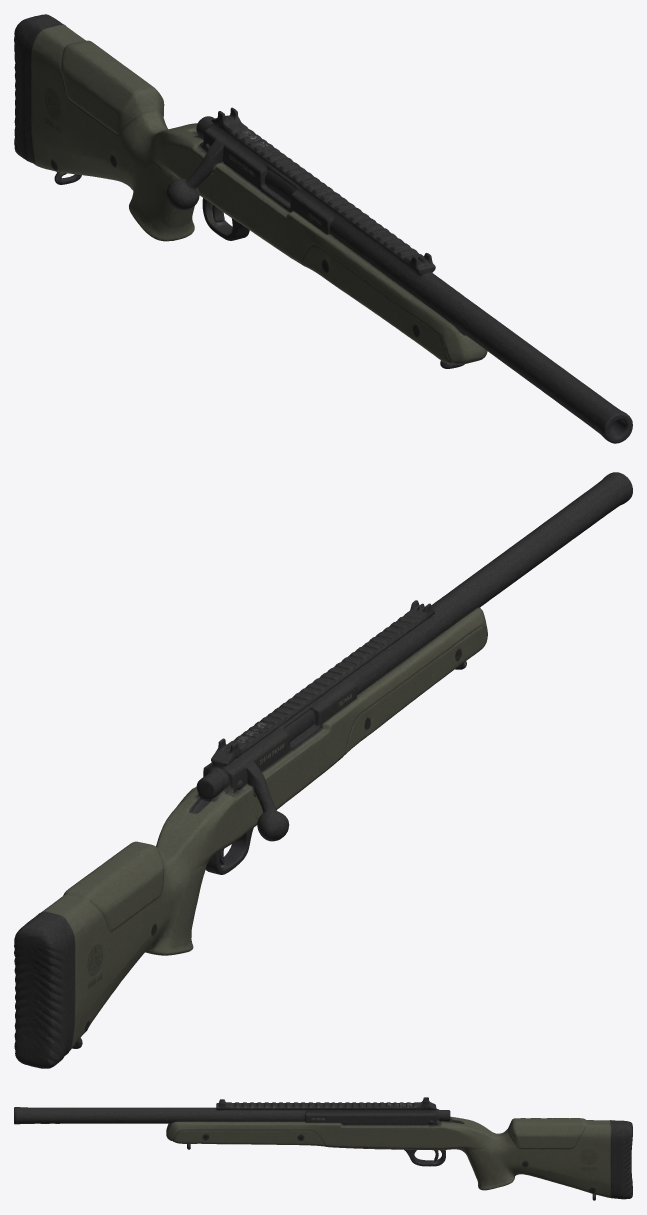
The model's file is steyr_ssg69.high.glb.
3 renders of one model, top to bottom at view 1: azimuth 30°, elevation 25°; view 2: azimuth 150°, elevation 25°; view 3: azimuth 270°, elevation 25°, orthographic. The views are drawn at different scales.
Visible parts, largest first — view 1: model; view 2: model; view 3: model.
Part boxes in pixels (x1=…): model: x1=14, y1=14, x2=632, y2=443; model: x1=14, y1=472, x2=632, y2=1068; model: x1=14, y1=1097, x2=632, y2=1200.
Bounding box in the file's own units: 0.0927 × 0.2028 × 1.14.
1 material, 1 textured.
